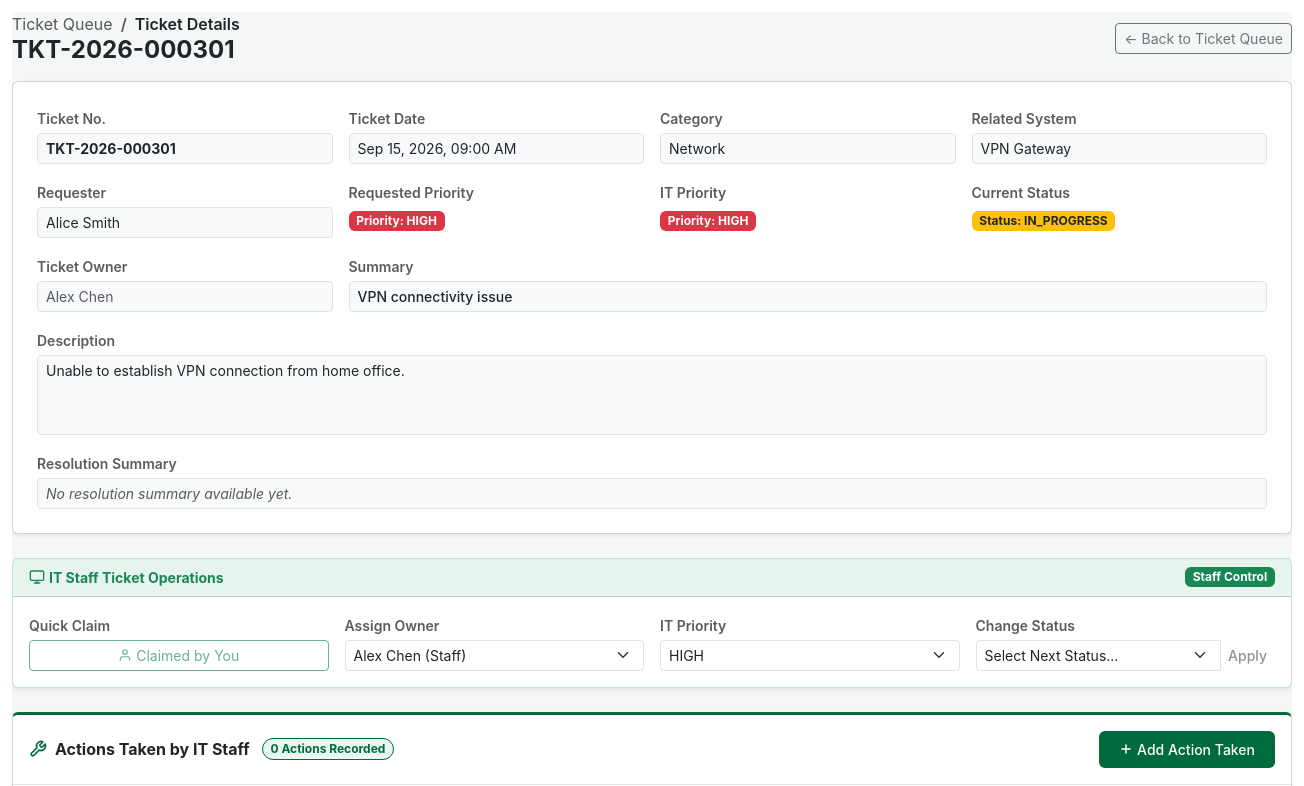
Scenario: Ticket Workflow Hardening, Resolution Gate & UI Guards (UI-06 / Issue 35) › UI-06g: displays conflict error banner when update is rejected due to concurrent modification (409 Conflict)
This screenshot has width=1304, height=786.
Select "Waiting for Requester" in the dropdown with test id "status-transition-selector" at (1098, 655), box x1=976 y1=640 x2=1221 y2=671
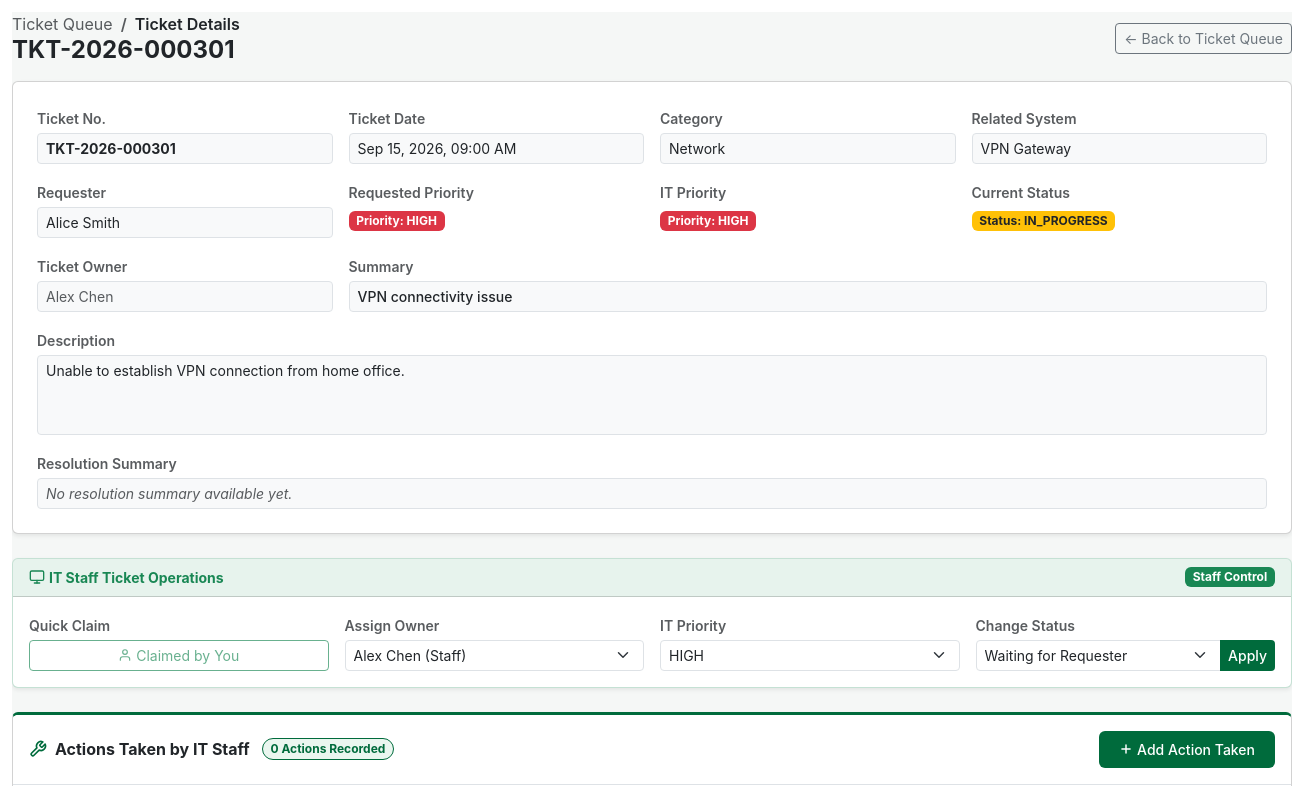
Click the button with test id "apply-status-btn" at (1248, 655), box x1=1220 y1=640 x2=1275 y2=671
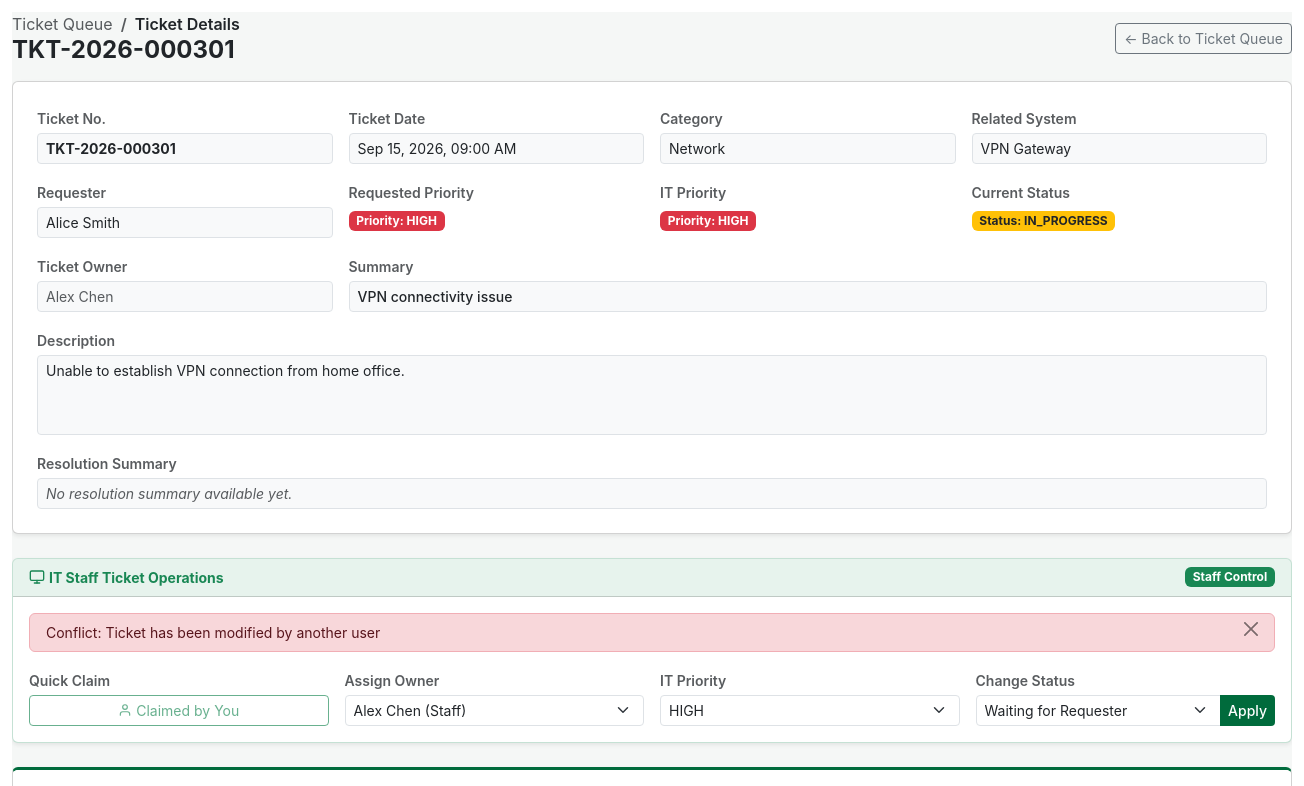
Now the message "Conflict: Ticket has been modified by another user" is shown, box x1=29 y1=613 x2=1275 y2=652
Now the message with test id "operation-feedback" reads "Conflict: Ticket has been modified by another user", box x1=46 y1=624 x2=380 y2=641
